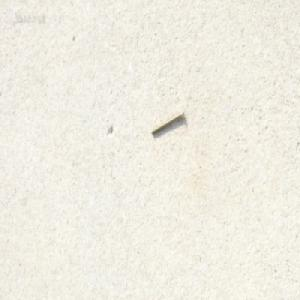Bolt: (150, 107, 183, 135)
